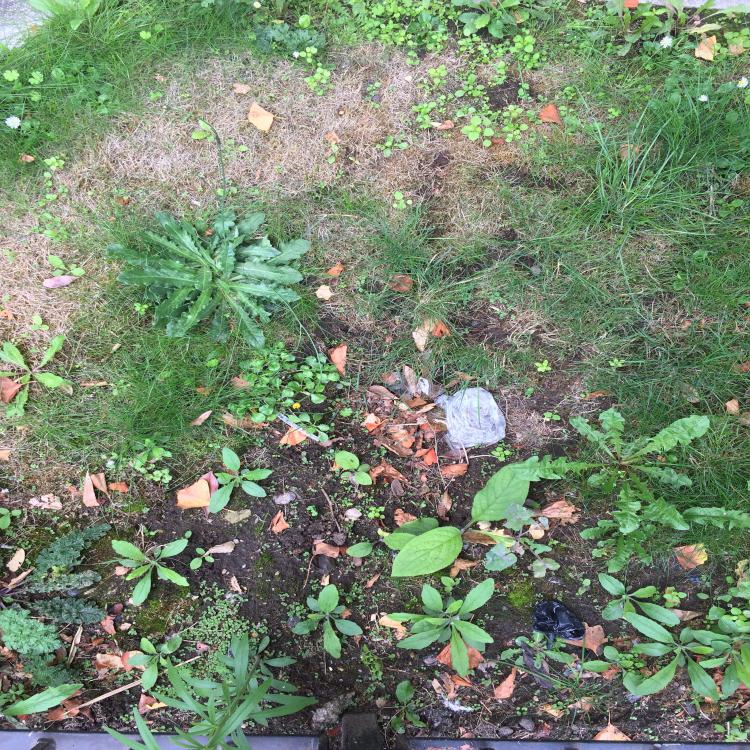Plastic film: (434, 387, 506, 457), (531, 601, 586, 649), (387, 372, 446, 401)
